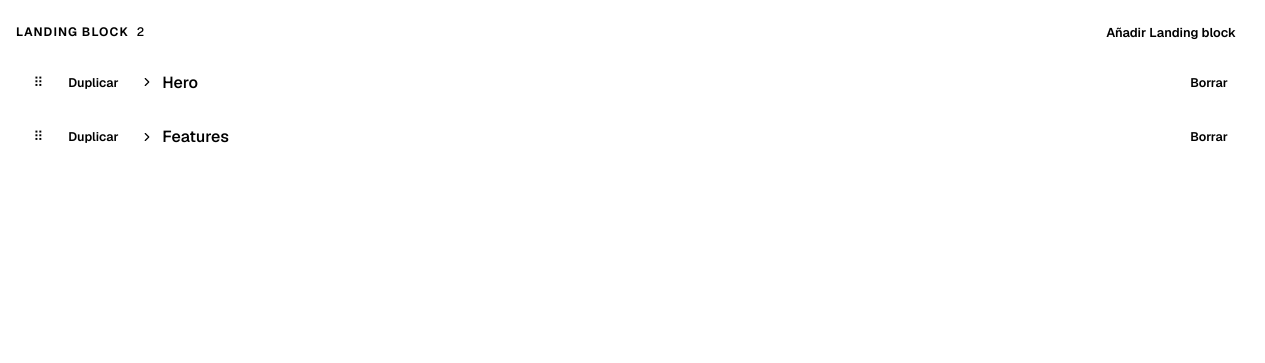
Test: RecordBlocks.svelte › crear: port.create con parentField/orderField, fila nueva desplegada
The image size is (1265, 363).
Step 1. Click the button "Añadir Landing block" → (1171, 32), box x1=1094 y1=16 x2=1248 y2=48
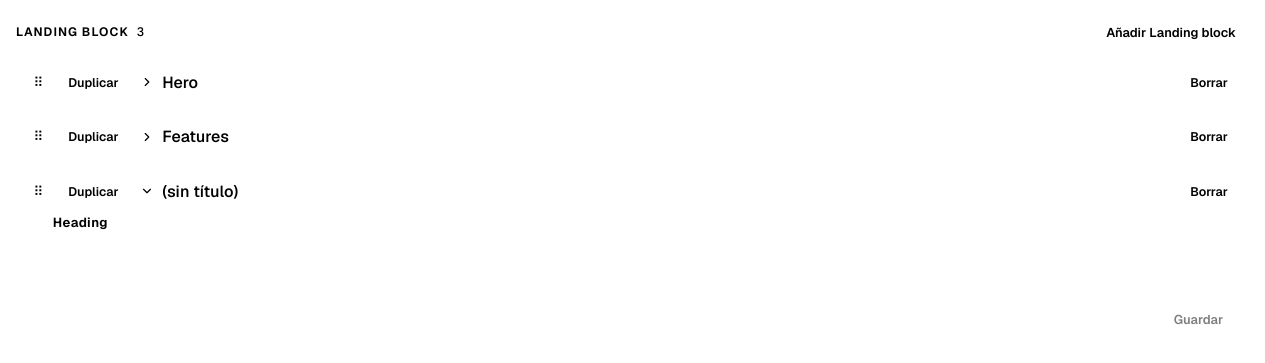
Now the number of list items is 3, box x1=16 y1=60 x2=1248 y2=105; x1=16 y1=114 x2=1248 y2=159; x1=16 y1=169 x2=1248 y2=346
